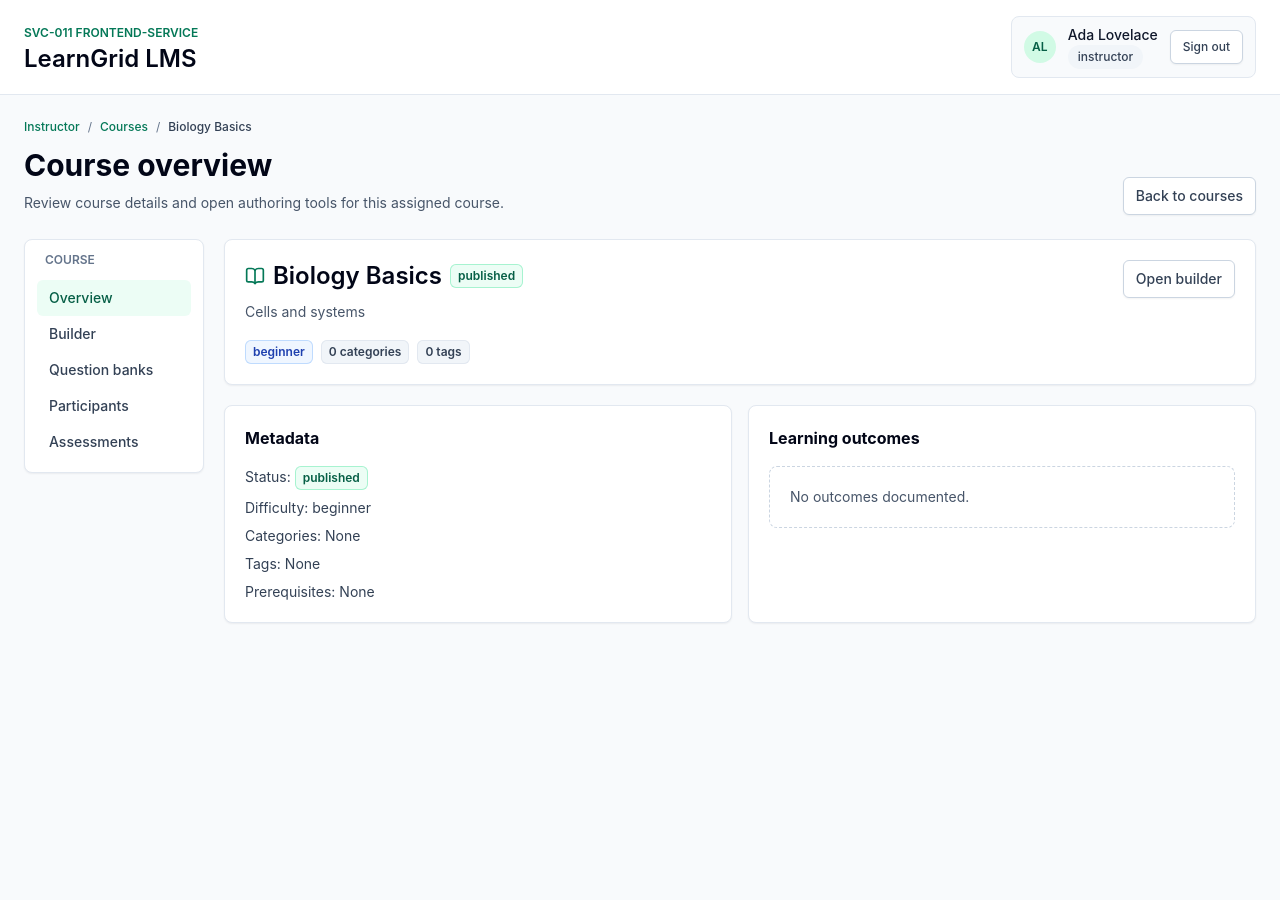
Scenario: assigned instructor navigates from course overview to builder
Expected: the heading "Course overview" is shown, [24,147,272,183]
Step 1. Click the link "Builder" → (72,334), box [49,325,96,342]
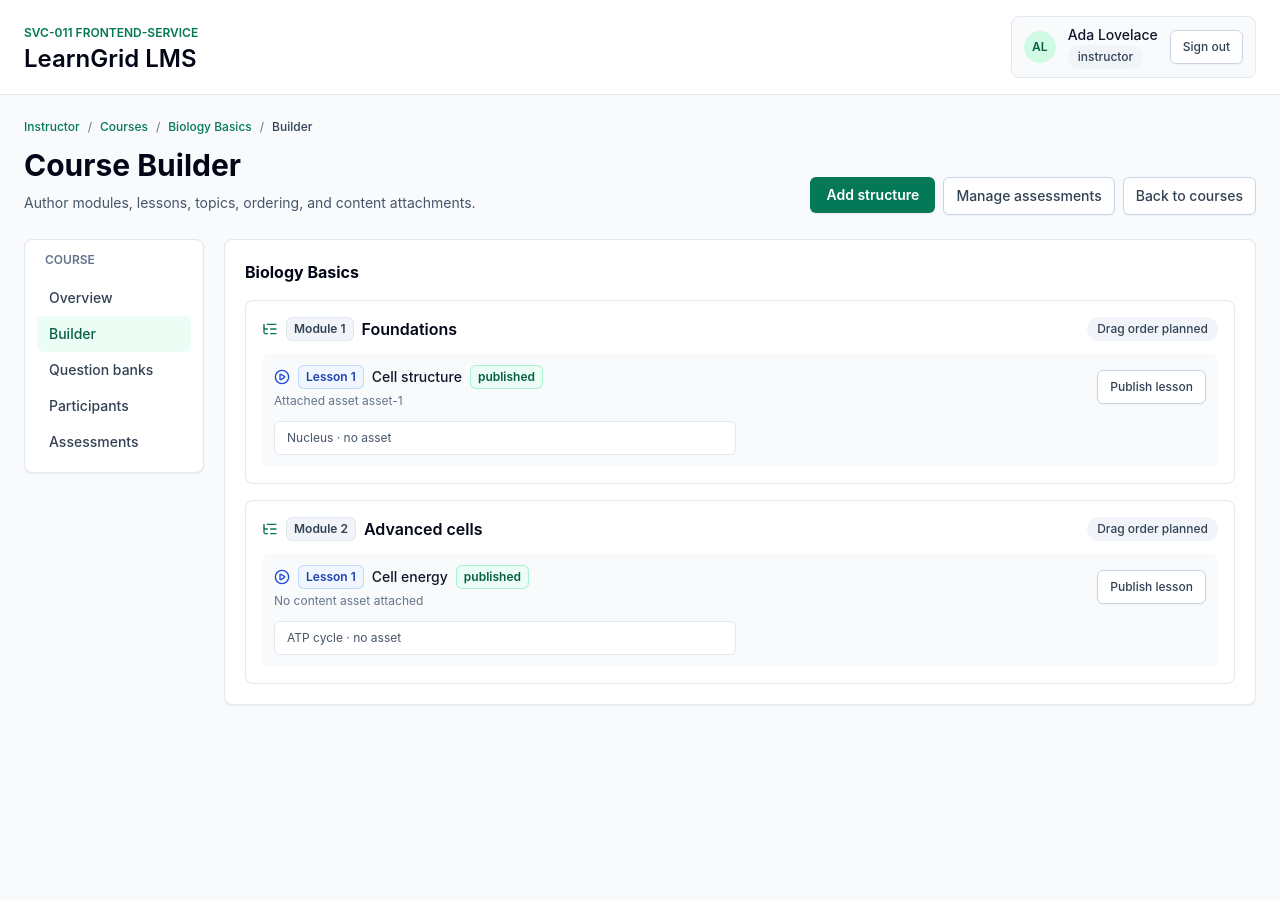
Expected: the navigation bar "Course" is shown, [24,239,204,473]
Result: the heading "Course Builder" is shown at [24,147,241,183]
Result: the navigation bar named "breadcrumb" reads "Instructor / Courses / Biology Basics / Builder" at [24,119,312,134]
